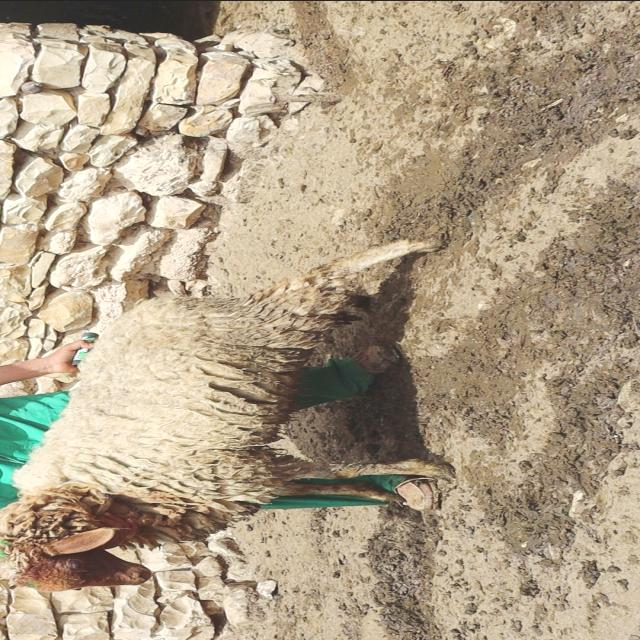Score_2: (0, 239, 437, 591)
